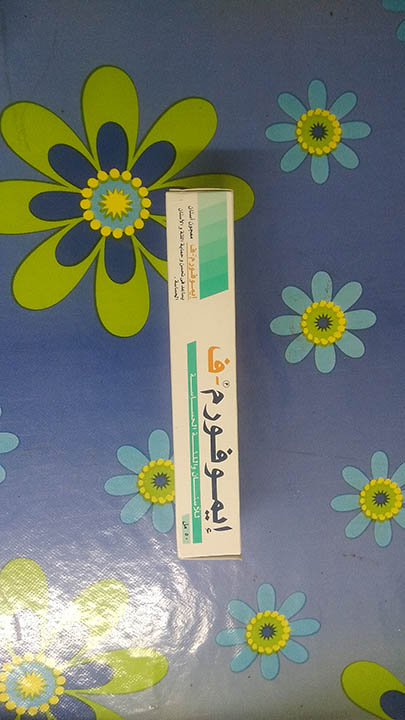Toothpaste-F 1.5$: (161, 183, 256, 564)
